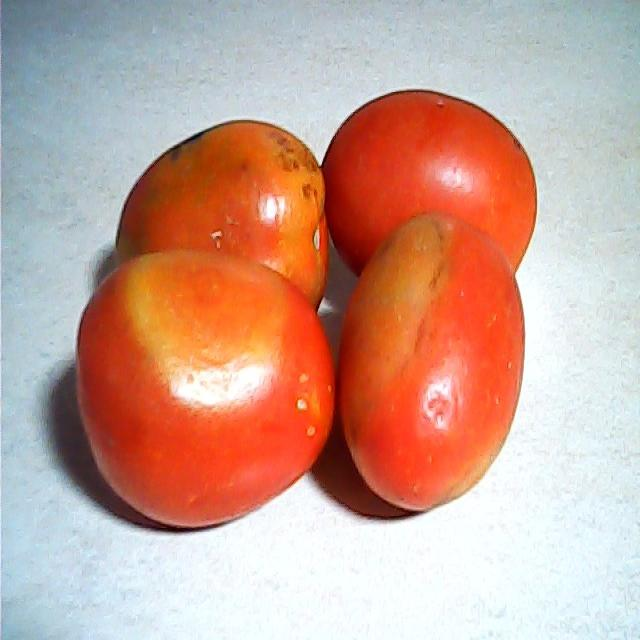defectuoso: (114, 116, 328, 322)
maduro: (74, 256, 340, 534), (339, 211, 524, 519), (322, 86, 538, 288)
